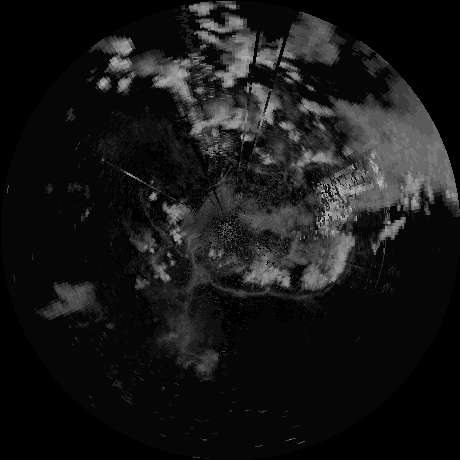frontgust: (140, 196, 187, 258), (191, 262, 268, 297), (273, 287, 332, 303)
